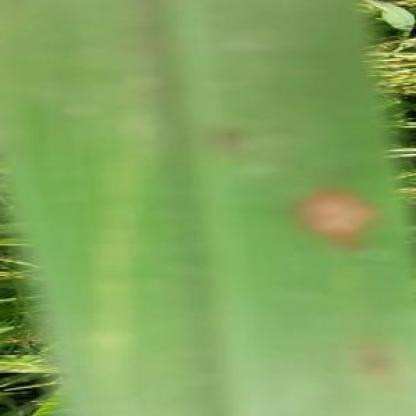Rice blast: (287, 192, 381, 244)
